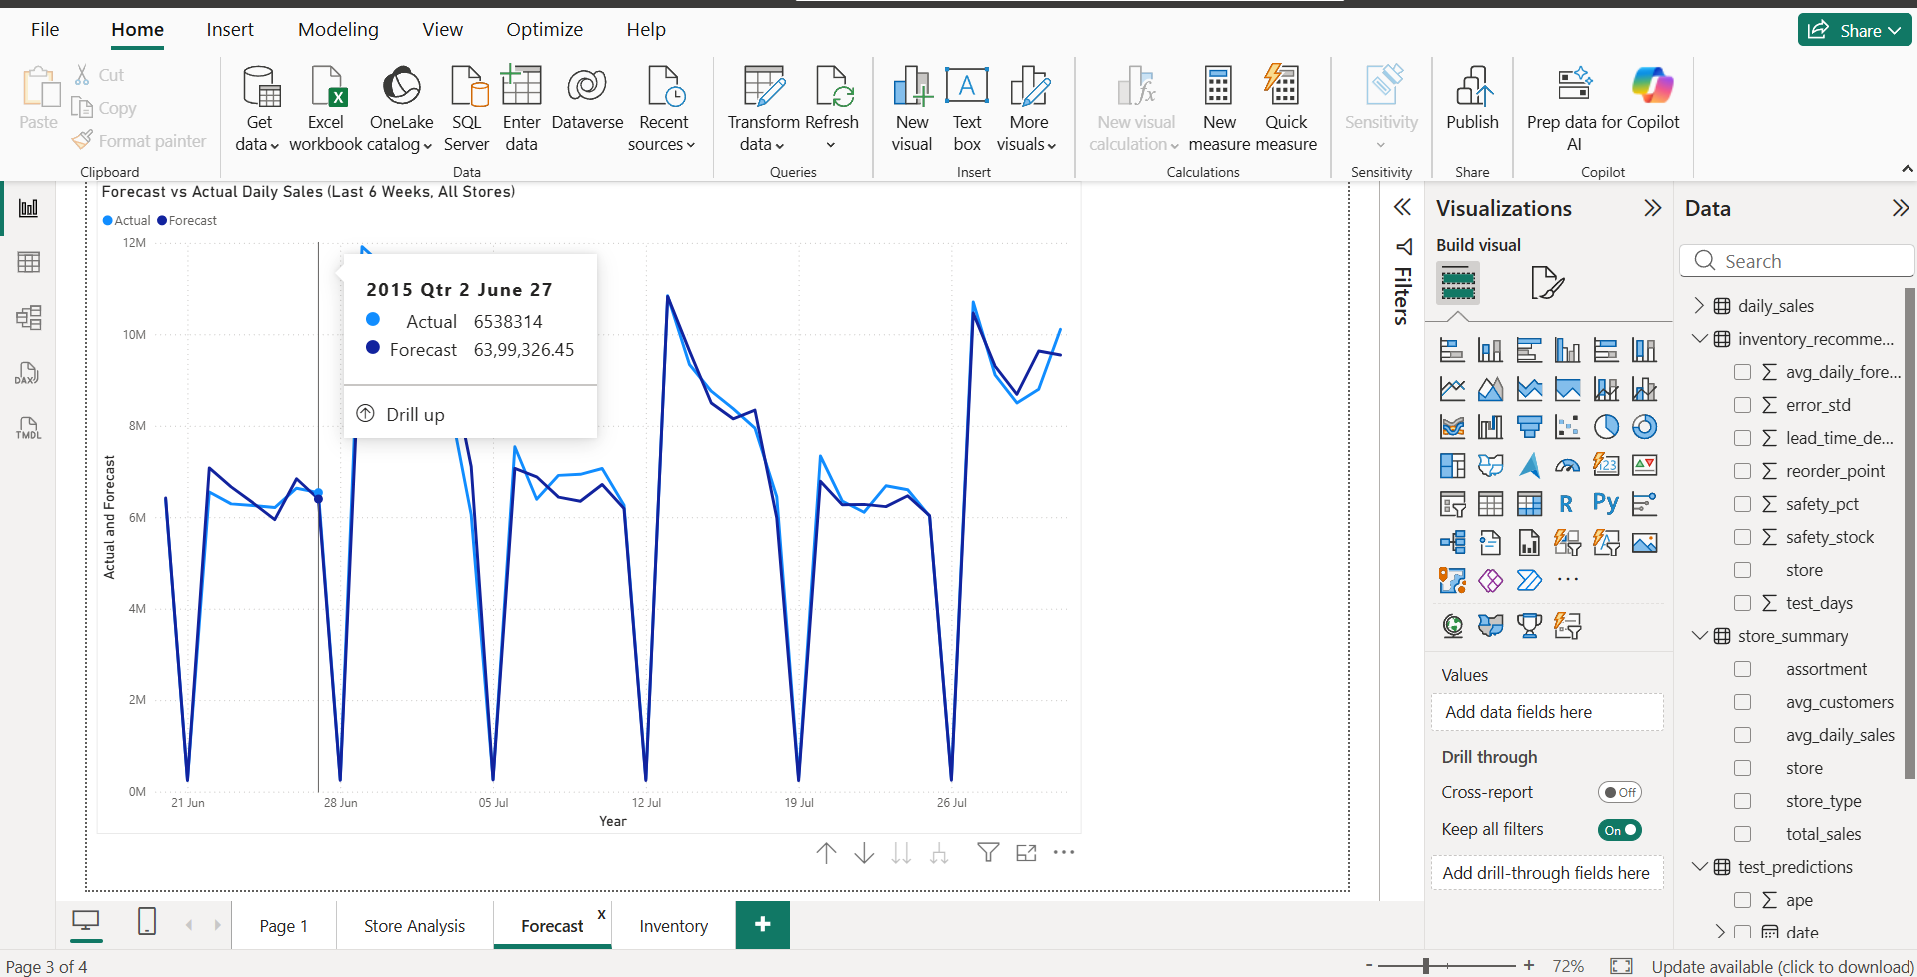

The dashboard page shown, as its layout file describes it:
{"tool":"powerbi","page":{"name":"Forecast","canvas":[1280,720],"ordinal":2},"visuals":[{"type":"lineChart","title":"Forecast vs Actual Daily Sales (Last 6 Weeks, All Stores)","fields":{"Y":["Sum(test_predictions.sales)","Sum(test_predictions.pred)"],"Category":["test_predictions.date.Variation.Date Hierarchy.Year","test_predictions.date.Variation.Date Hierarchy.Quarter","test_predictions.date.Variation.Date Hierarchy.Month","test_predictions.date.Variation.Date Hierarchy.Day"]},"box":[9.8,0,1000,663.4],"z":0}]}

Visuals, with their boxes on the page's 1280x720 design canvas (x1, y1, x2, y2). These are canvas units, not pixel positions in the 1917x977 screenshot, which may show the page scaled, cropped or inside an application window:
"Forecast vs Actual Daily Sales (Last 6 Weeks, All Stores)" lineChart: <bbox>10, 0, 1010, 663</bbox>
